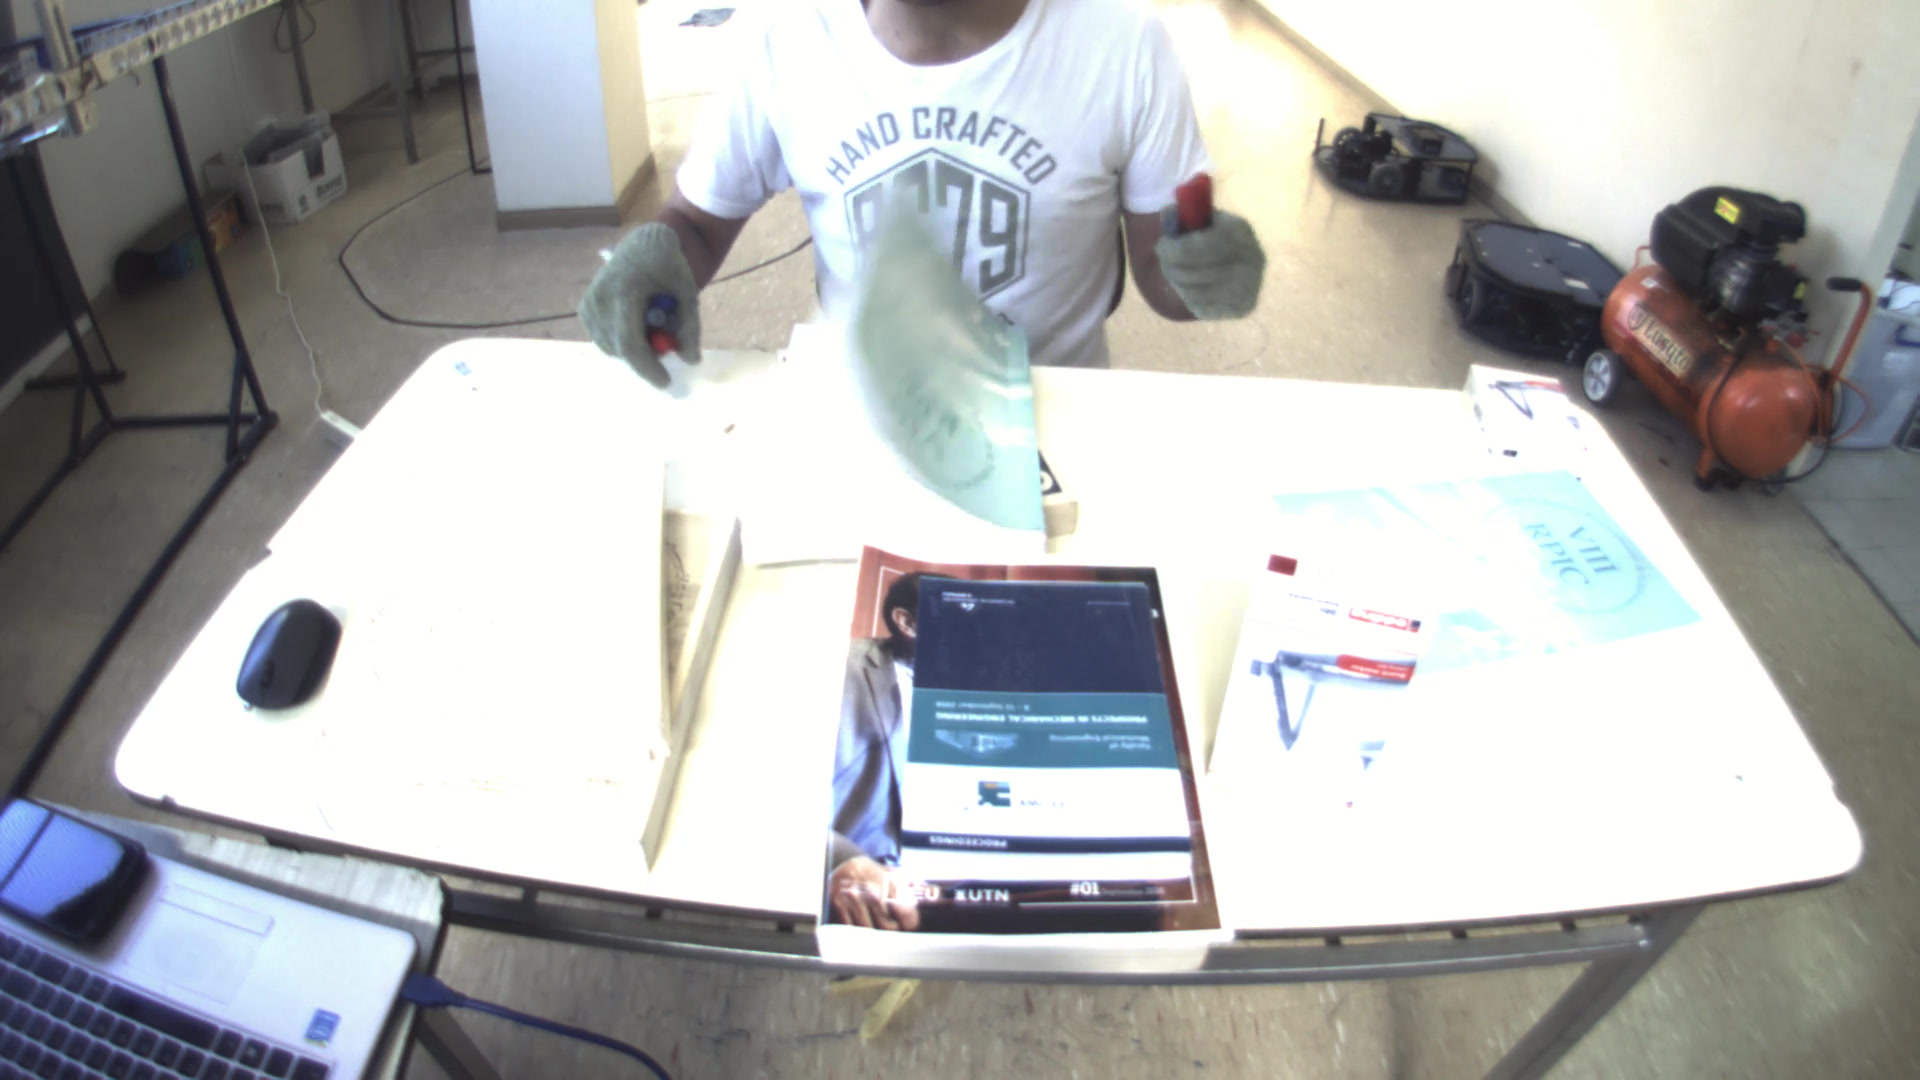hand: (560, 214, 705, 396), (1149, 202, 1265, 324)
